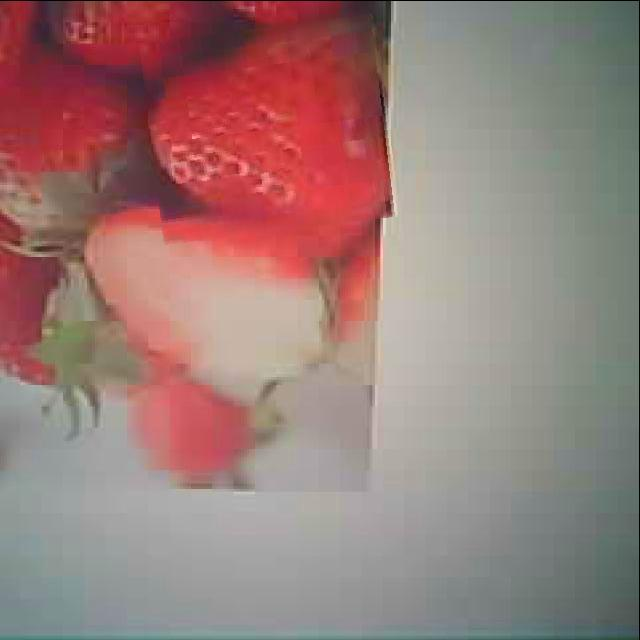strawberry: (144, 19, 394, 237)
